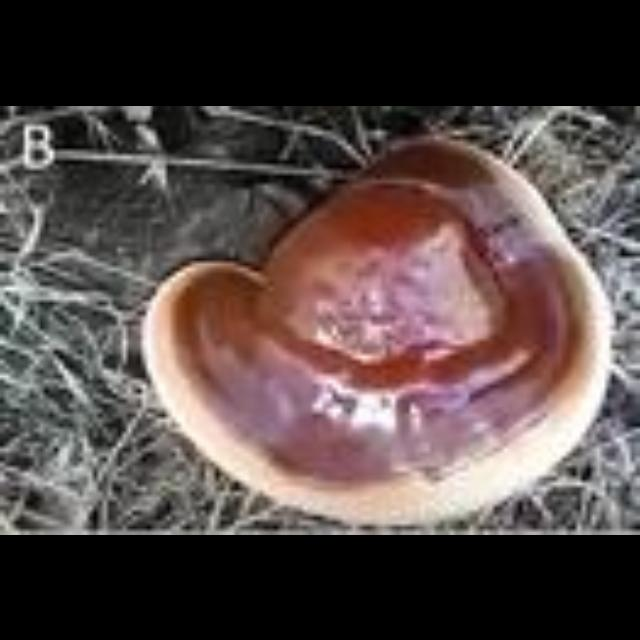ganoderma: (138, 134, 616, 529)
